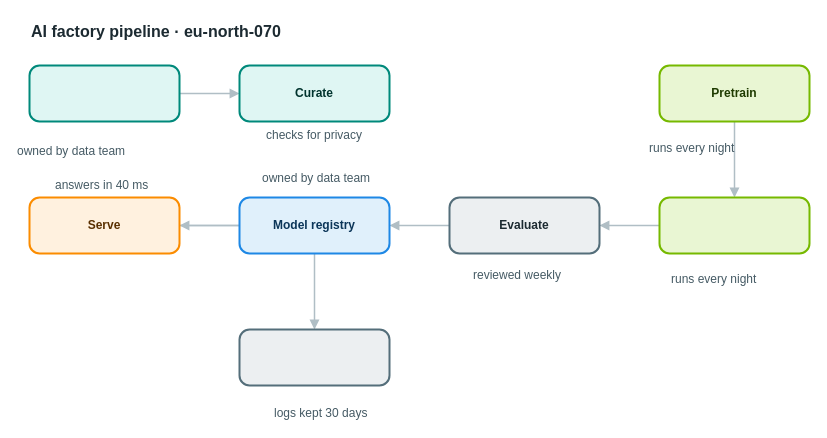
Image size: 827x438. Some labels were removed from this diagram. The shapes that lost their labels are listed below. From the top down, each one's centre as x and y in pixels, then its label:
At point (104, 93): "Ingest".
At point (734, 225): "Fine-tune".
At point (314, 357): "Monitor".
